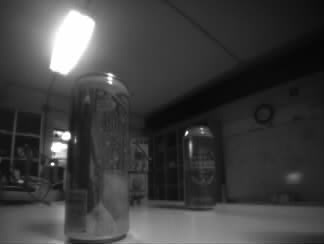Tin can: (63, 71, 132, 244), (180, 125, 218, 211)
